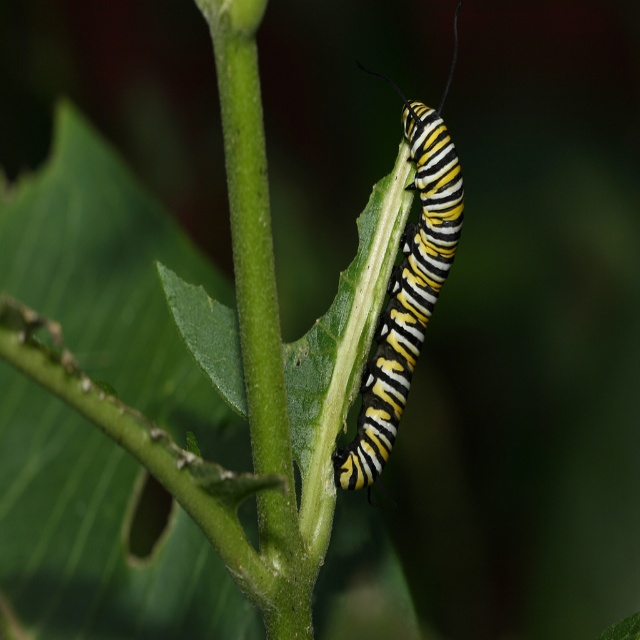Caterpillar: (332, 94, 466, 492)
